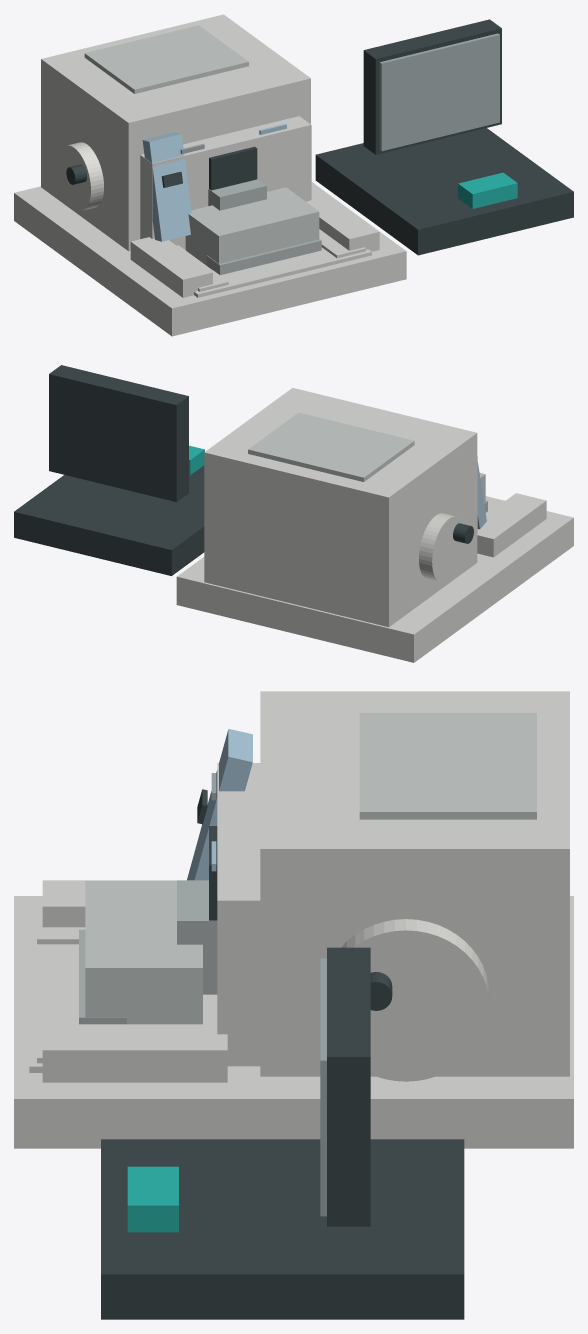
Rendered from hm325a-static.glb.
3 views of the same model, one above another, from view 1: azimuth 30°, elevation 25°; view 2: azimuth 150°, elevation 25°; view 3: azimuth 270°, elevation 25° (orthographic). The views are drawn at different scales.
Visible parts, largest first — view 1: upright_outer_casing, unrelated_diagram_plinth, rounded_full_outer_base, opaque_display_glass, smooth_lower_front_facade, solid_oversized_protective_shroud, brushed_flat_top, unrelated_upright_bezel, sloped_static_left_control_face, tray_side_block, front_outer_tray_rounded_lip, tray_side_block.001 (+6 smaller); view 2: upright_outer_casing, rounded_full_outer_base, unrelated_upright_bezel, unrelated_diagram_plinth, brushed_flat_top, tray_side_block, static_secondary_wheel, sloped_static_left_control_face; view 3: upright_outer_casing, unrelated_diagram_plinth, rounded_full_outer_base, brushed_flat_top, static_main_wheel, solid_oversized_protective_shroud, unrelated_upright_bezel, smooth_lower_front_facade, tray_side_block.001, front_outer_tray_rounded_lip, detached_diagram_badge, sloped_static_left_control_face (+6 smaller).
Part boxes in pixels (left/top/right/bottom): upright_outer_casing: left=41, top=14, right=310, bottom=251; unrelated_diagram_plinth: left=315, top=128, right=573, bottom=255; rounded_full_outer_base: left=14, top=182, right=406, bottom=336; opaque_display_glass: left=379, top=33, right=499, bottom=151; smooth_lower_front_facade: left=140, top=116, right=311, bottom=249; solid_oversized_protective_shroud: left=185, top=187, right=319, bottom=265; brushed_flat_top: left=84, top=25, right=248, bottom=93; unrelated_upright_bezel: left=363, top=19, right=501, bottom=154; sloped_static_left_control_face: left=142, top=132, right=191, bottom=241; tray_side_block: left=130, top=237, right=212, bottom=297; front_outer_tray_rounded_lip: left=194, top=247, right=371, bottom=297; tray_side_block.001: left=306, top=193, right=379, bottom=251; upright_outer_casing: left=204, top=387, right=477, bottom=627; rounded_full_outer_base: left=176, top=496, right=573, bottom=662; unrelated_upright_bezel: left=49, top=365, right=188, bottom=501; unrelated_diagram_plinth: left=14, top=465, right=204, bottom=575; brushed_flat_top: left=248, top=412, right=414, bottom=481; tray_side_block: left=477, top=493, right=546, bottom=557; static_secondary_wheel: left=419, top=513, right=465, bottom=582; sloped_static_left_control_face: left=477, top=462, right=486, bottom=529; upright_outer_casing: left=260, top=691, right=569, bottom=1076; unrelated_diagram_plinth: left=101, top=1139, right=464, bottom=1319; rounded_full_outer_base: left=14, top=896, right=573, bottom=1148; brushed_flat_top: left=359, top=713, right=536, bottom=819; static_main_wheel: left=341, top=919, right=489, bottom=1081; solid_oversized_protective_shroud: left=85, top=881, right=202, bottom=1024; unrelated_upright_bezel: left=327, top=947, right=370, bottom=1226; smooth_lower_front_facade: left=217, top=763, right=260, bottom=1066; tray_side_block.001: left=42, top=1024, right=227, bottom=1082; front_outer_tray_rounded_lip: left=29, top=916, right=78, bottom=1072; detached_diagram_badge: left=127, top=1166, right=178, bottom=1232; sloped_static_left_control_face: left=187, top=729, right=252, bottom=880.
Bounding box in the file's own units: 0.7635 × 0.28 × 0.49.
